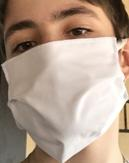with_mask: (1, 1, 129, 163)
